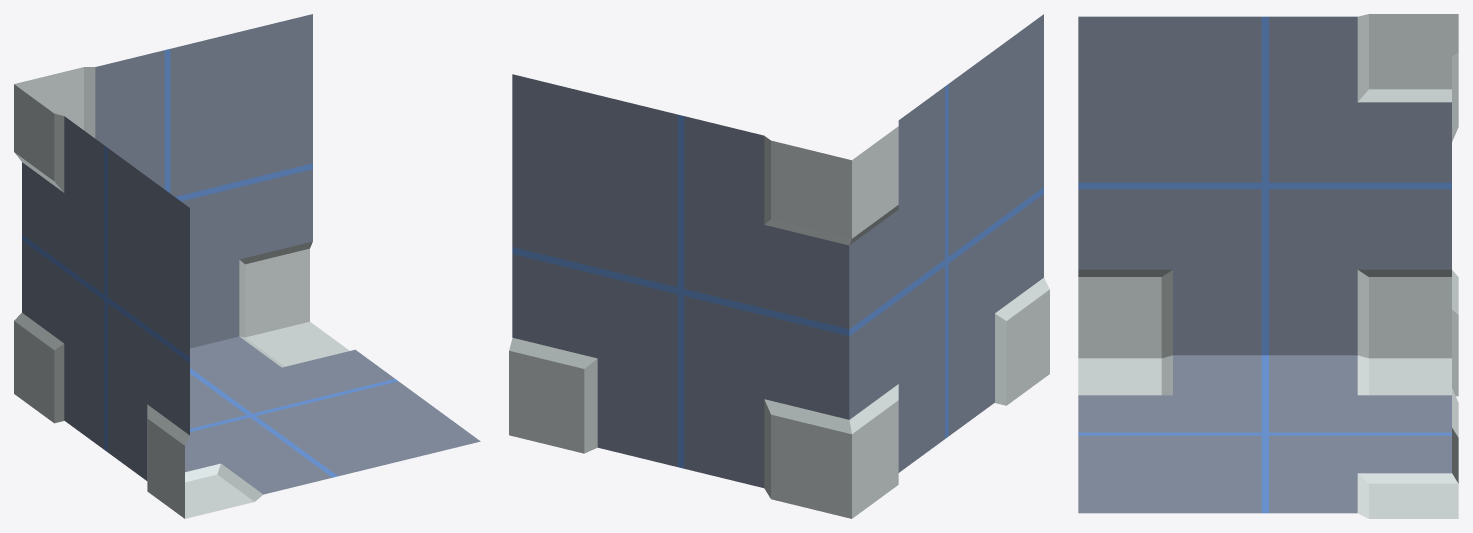
Rendered from WallCorner.fbx.
3 renders of one model, left to right at view 1: azimuth 30°, elevation 25°; view 2: azimuth 150°, elevation 25°; view 3: azimuth 270°, elevation 25°, orthographic. The views are drawn at different scales.
Visible parts, largest first — view 1: WallCorner; view 2: WallCorner; view 3: WallCorner.
Boxes of the visible parts, bbox=[...] form: WallCorner: bbox=[14, 14, 480, 518]; WallCorner: bbox=[509, 14, 1049, 518]; WallCorner: bbox=[1078, 14, 1458, 518].
Bounding box in the file's own units: 102 × 102 × 102.
1 material, 1 textured.
